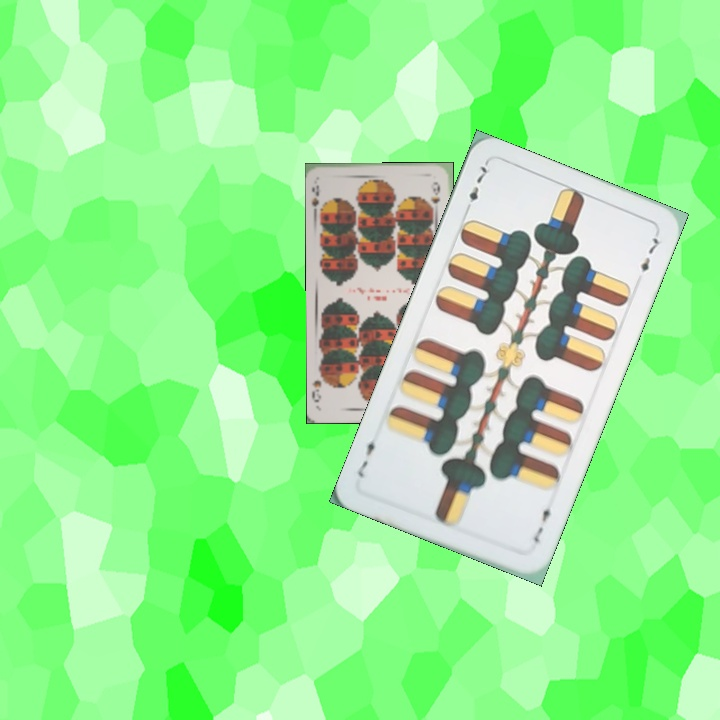E7: (460, 160, 490, 216), (529, 499, 556, 545)
S9: (308, 181, 328, 218)
